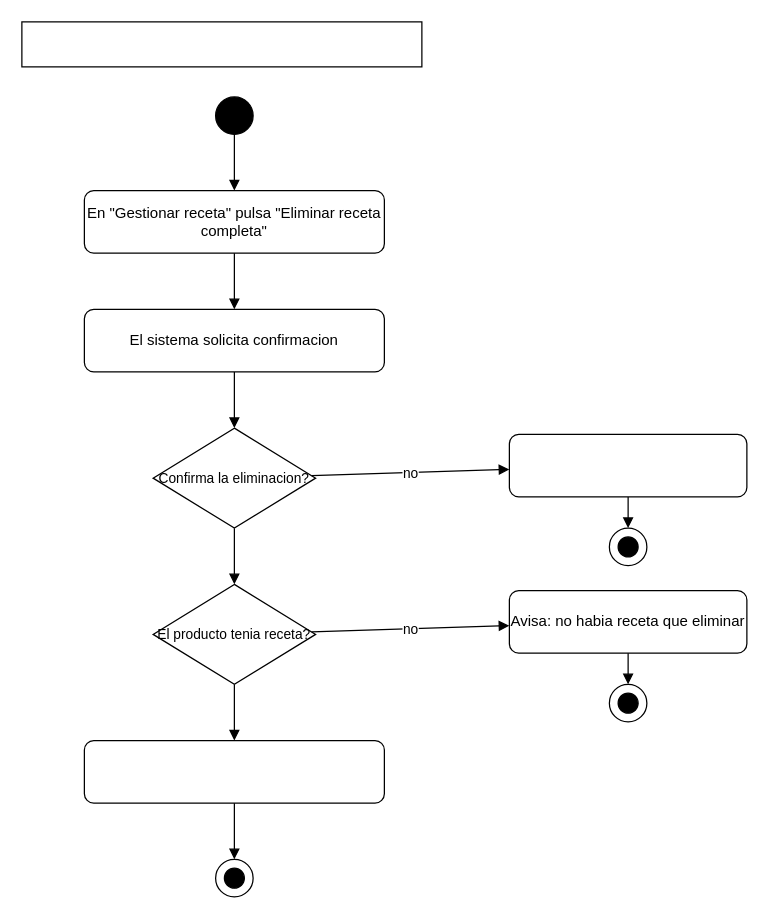
Some shapes in this 769 by 919 pixel diagram are drawn without their labels. The box of each missing label's shape, as (x1, y1, x2, y2) in pixels:
Cancela: no hay cambios: (508, 433, 747, 497)
Diagrama de actividad - Eliminar Receta (CU-08): (21, 21, 422, 67)
Elimina todas las lineas de la receta: (83, 739, 384, 803)
